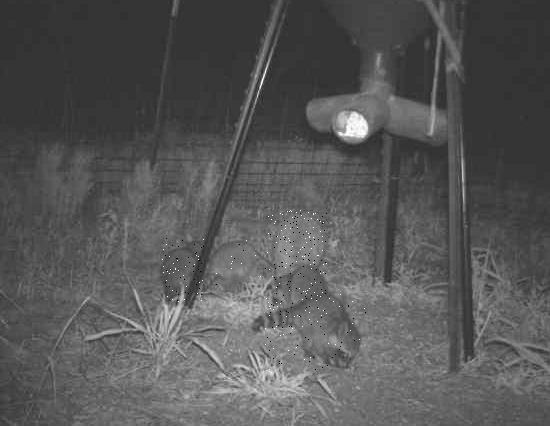Raccoon: (266, 294, 368, 373), (269, 211, 328, 284), (208, 236, 275, 296), (268, 267, 328, 329), (162, 238, 204, 302)
